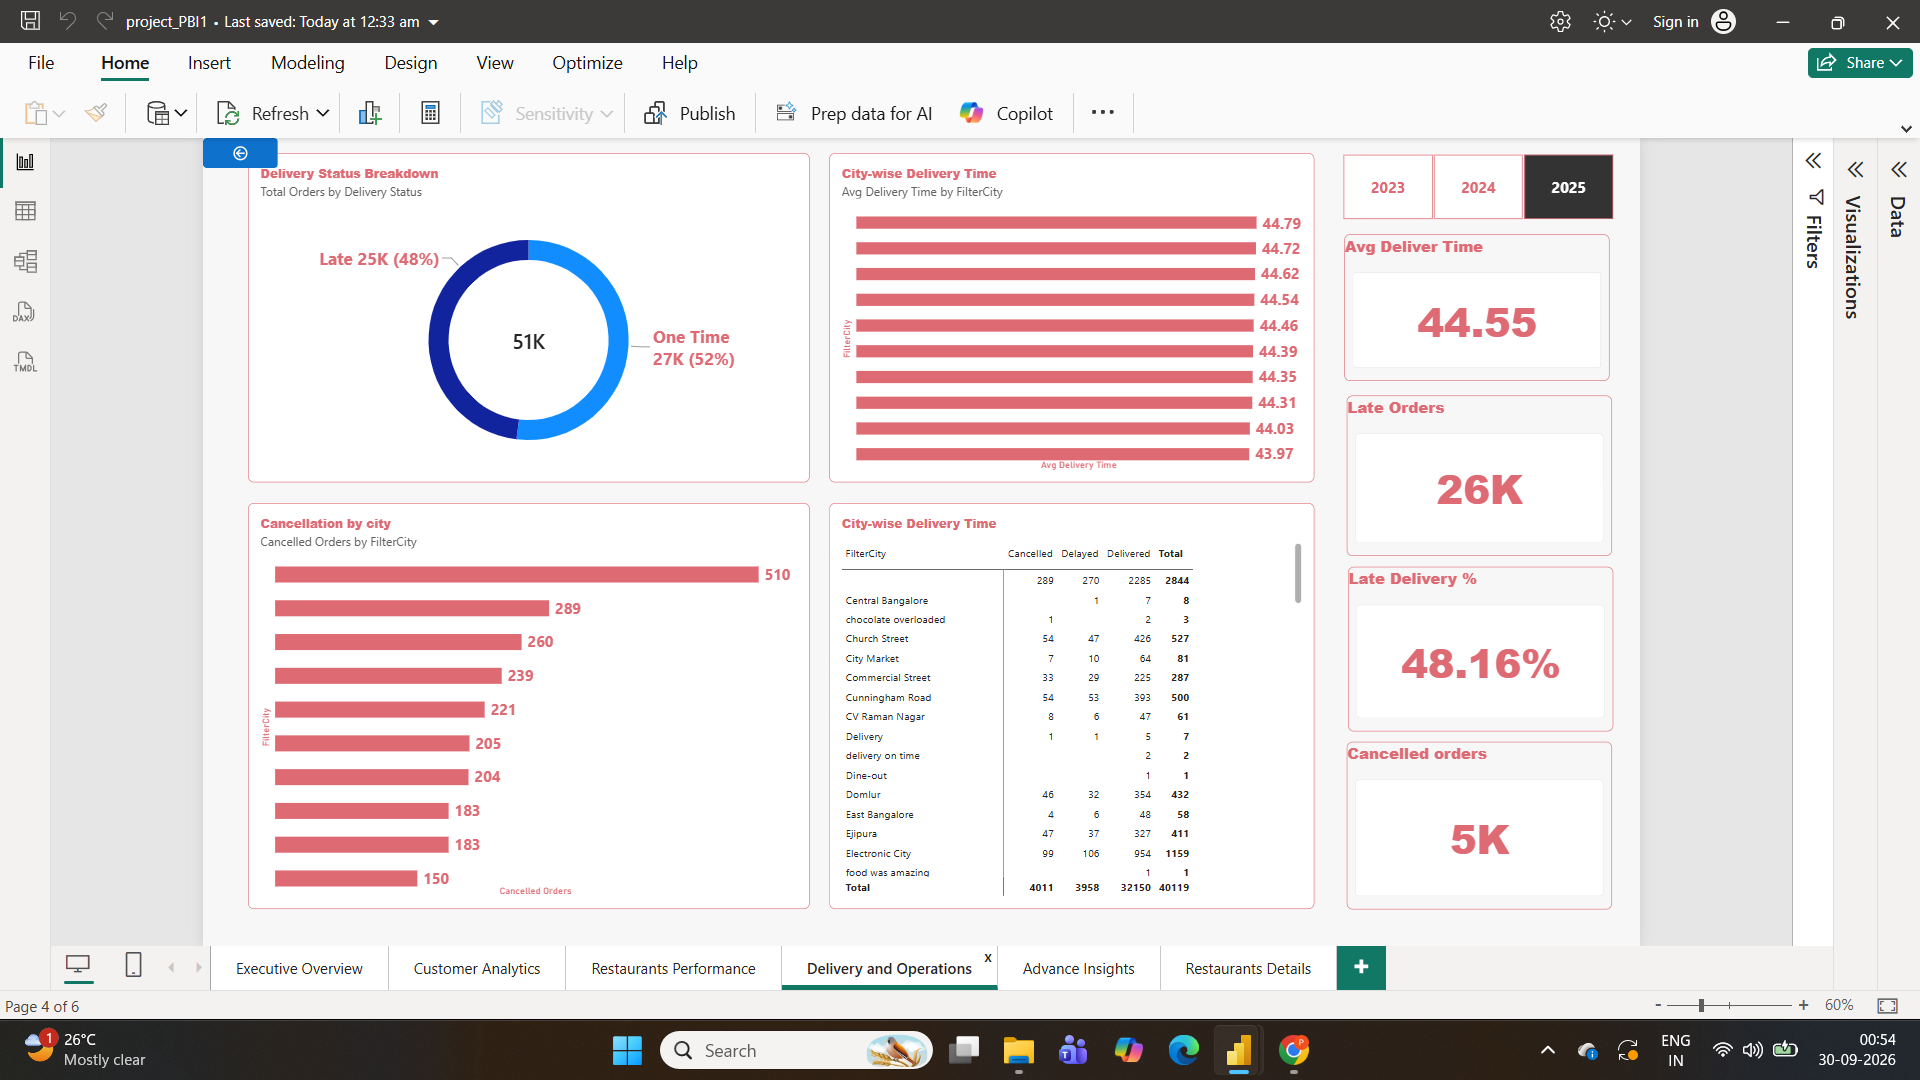

This screenshot's page, from the dashboard's own definition file:
{"tool":"powerbi","page":{"name":"Delivery and Operations ","canvas":[1920,1080],"ordinal":3},"visuals":[{"type":"cardVisual","title":"Avg Deliver Time","fields":{"Data":["Orders.Avg Delivery Time"]},"box":[1524,128,354,196],"z":0},{"type":"cardVisual","title":"Late Orders","fields":{"Data":["Orders.Late Orders"]},"box":[1528,344,354,214],"z":1000},{"type":"cardVisual","title":"Late Delivery %","fields":{"Data":["Orders.Late Delivery %"]},"box":[1530,572,354,220],"z":2000},{"type":"cardVisual","title":"Cancelled orders","fields":{"Data":["Orders.Cancelled Orders"]},"box":[1528,806,354,224],"z":3000},{"type":"barChart","title":"City-wise Delivery Time","fields":{"Category":["Customers.FilterCity"],"Y":["Orders.Avg Delivery Time"]},"box":[836,20,648,440],"z":6000},{"type":"donutChart","title":"Delivery Status Breakdown","fields":{"Category":["Orders.Delivery Status"],"Y":["Orders.Total Orders"]},"box":[60,20,750,440],"z":7000},{"type":"barChart","title":"Cancellation by city","fields":{"Category":["Customers.FilterCity"],"Y":["Orders.Cancelled Orders"]},"box":[60,488,750,542],"z":8000},{"type":"pivotTable","title":"City-wise Delivery Time","fields":{"Columns":["Orders.OrderStatus"],"Rows":["Customers.FilterCity"],"Values":["Orders.Total Orders"]},"box":[836,488,648,542],"z":9000},{"type":"slicer","fields":{"Values":["DateTable.Date.Variation.Date Hierarchy.Year"]},"box":[1502,20,400,90],"z":9001},{"type":"actionButton","box":[0,0,100,40],"z":9002}]}

Visuals, with their boxes on the page's 1920x1080 design canvas (x1, y1, x2, y2). These are canvas units, not pixel positions in the 1920x1080 screenshot, which may show the page scaled, cropped or inside an application window:
"Avg Deliver Time" cardVisual: bbox(1524, 128, 1878, 324)
"Late Orders" cardVisual: bbox(1528, 344, 1882, 558)
"Late Delivery %" cardVisual: bbox(1530, 572, 1884, 792)
"Cancelled orders" cardVisual: bbox(1528, 806, 1882, 1030)
"City-wise Delivery Time" barChart: bbox(836, 20, 1484, 460)
"Delivery Status Breakdown" donutChart: bbox(60, 20, 810, 460)
"Cancellation by city" barChart: bbox(60, 488, 810, 1030)
"City-wise Delivery Time" pivotTable: bbox(836, 488, 1484, 1030)
slicer - DateTable.Date.Variation.Date Hierarchy.Year: bbox(1502, 20, 1902, 110)
actionButton: bbox(0, 0, 100, 40)
